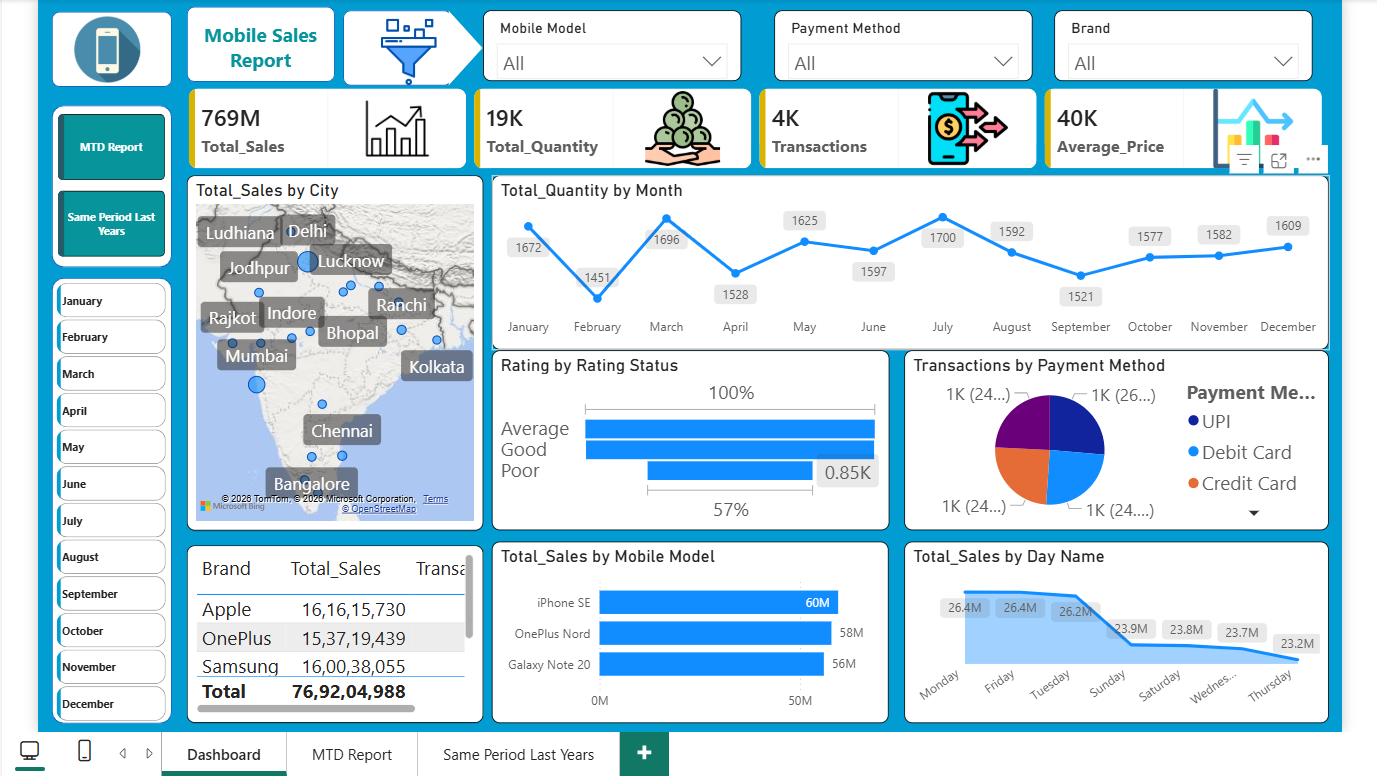

Layout of this report page (visuals, bound fields, positions):
{"tool":"powerbi","page":{"name":"Dashboard","canvas":[1280,720],"ordinal":0},"visuals":[{"type":"shape","box":[299.1,11,107,74.1],"z":0},{"type":"shape","box":[13.7,12.3,118,74.1],"z":1000},{"type":"shape","box":[13.7,104.3,118,159.2],"z":3000},{"type":"shape","box":[13.7,273.1,118,437.7],"z":4000},{"type":"advancedSlicerVisual","fields":{"Values":["Custom_Calender.Date.Variation.Date Hierarchy.Month"]},"box":[13.5,273.6,117.8,446.6],"z":5000},{"type":"cardVisual","fields":{"Data":["Mobiles_Sales_Report.Total_Sales","Mobiles_Sales_Report.Total_Quantity","Mobiles_Sales_Report.Transactions","Mobiles_Sales_Report.Average_Price"]},"box":[131.7,71.4,1148.5,112.5],"z":6000},{"type":"slicer","fields":{"Values":["Mobiles_Sales_Report.Mobile Model"]},"box":[436.4,11,253.9,70],"z":7000},{"type":"slicer","fields":{"Values":["Mobiles_Sales_Report.Payment Method"]},"box":[723.2,11,253.9,70],"z":8000},{"type":"slicer","fields":{"Values":["Mobiles_Sales_Report.Brand"]},"box":[997.6,11,253.9,70],"z":9000},{"type":"shape","box":[369.1,11,67.2,74.1],"z":10000},{"type":"image","box":[323.8,17.8,79.6,67.2],"z":11000},{"type":"shape","box":[145.5,6.9,145.5,74.1],"z":12000},{"type":"textbox","box":[149.7,17.2,137.4,61.4],"z":13000},{"type":"map","fields":{"Category":["Mobiles_Sales_Report.City"],"Size":["Mobiles_Sales_Report.Total_Sales"]},"box":[145.5,172.9,290.9,348.5],"z":14000},{"type":"lineChart","fields":{"Category":["Custom_Calender.Date.Variation.Date Hierarchy.Month"],"Y2":["Mobiles_Sales_Report.Total_Quantity"]},"box":[446,172.9,822,171.5],"z":15000},{"type":"funnel","title":"Rating by Rating Status","fields":{"Category":["Mobiles_Sales_Report.Rating Status"],"Y":["CountNonNull(Mobiles_Sales_Report.Customer Ratings)"]},"box":[445.4,344.8,390.2,176.7],"z":16000},{"type":"pieChart","fields":{"Y":["Mobiles_Sales_Report.Transactions"],"Category":["Mobiles_Sales_Report.Payment Method"]},"box":[850.8,344.4,417.2,177],"z":17000},{"type":"clusteredBarChart","fields":{"Y":["Mobiles_Sales_Report.Total_Sales"],"Category":["Mobiles_Sales_Report.Mobile Model"]},"box":[446,532.4,389.7,178.4],"z":18000},{"type":"areaChart","fields":{"Category":["Custom_Calender.Day Name"],"Y":["Mobiles_Sales_Report.Total_Sales"]},"box":[850.8,532.4,417.2,178.4],"z":19000},{"type":"tableEx","fields":{"Values":["Mobiles_Sales_Report.Brand","Mobiles_Sales_Report.Total_Sales","Mobiles_Sales_Report.Transactions"]},"box":[145.5,536.5,290.9,174.3],"z":20000},{"type":"pageNavigator","box":[19.6,112.9,105.5,141.1],"z":21000},{"type":"image","box":[19.6,17.2,96.9,65],"z":21001}]}

Visuals, with their boxes in screenshot pixels (x1, y1, x2, y2):
shape: x1=338 y1=4 x2=448 y2=80
shape: x1=46 y1=5 x2=167 y2=81
shape: x1=46 y1=100 x2=167 y2=262
shape: x1=46 y1=272 x2=167 y2=720
advancedSlicerVisual - Custom_Calender.Date.Variation.Date Hierarchy.Month: x1=46 y1=273 x2=167 y2=730
cardVisual - Mobiles_Sales_Report.Total_Sales x Mobiles_Sales_Report.Total_Quantity: x1=167 y1=66 x2=1342 y2=181
slicer - Mobiles_Sales_Report.Mobile Model: x1=479 y1=4 x2=739 y2=76
slicer - Mobiles_Sales_Report.Payment Method: x1=772 y1=4 x2=1032 y2=76
slicer - Mobiles_Sales_Report.Brand: x1=1053 y1=4 x2=1313 y2=76
shape: x1=410 y1=4 x2=479 y2=80
image: x1=364 y1=11 x2=445 y2=80
shape: x1=181 y1=0 x2=330 y2=76
textbox: x1=185 y1=10 x2=326 y2=73
map - Mobiles_Sales_Report.City x Mobiles_Sales_Report.Total_Sales: x1=181 y1=170 x2=479 y2=526
lineChart - Custom_Calender.Date.Variation.Date Hierarchy.Month x Mobiles_Sales_Report.Total_Quantity: x1=489 y1=170 x2=1330 y2=345
"Rating by Rating Status" funnel: x1=488 y1=346 x2=887 y2=526
pieChart - Mobiles_Sales_Report.Transactions x Mobiles_Sales_Report.Payment Method: x1=903 y1=345 x2=1330 y2=526
clusteredBarChart - Mobiles_Sales_Report.Total_Sales x Mobiles_Sales_Report.Mobile Model: x1=489 y1=538 x2=887 y2=720
areaChart - Custom_Calender.Day Name x Mobiles_Sales_Report.Total_Sales: x1=903 y1=538 x2=1330 y2=720
tableEx - Mobiles_Sales_Report.Brand x Mobiles_Sales_Report.Total_Sales: x1=181 y1=542 x2=479 y2=720
pageNavigator: x1=52 y1=108 x2=160 y2=253
image: x1=52 y1=10 x2=151 y2=77
